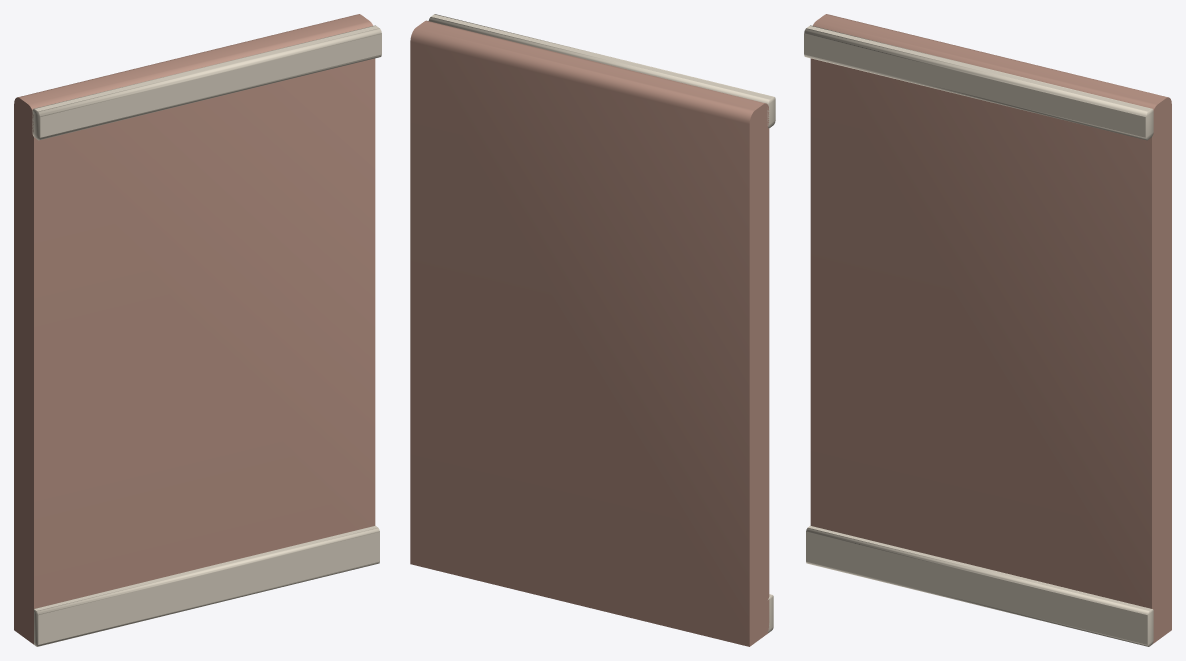
The model's file is Wall.glb.
The picture shows the model from 3 angles, left to right: view 1: azimuth 30°, elevation 25°; view 2: azimuth 150°, elevation 25°; view 3: azimuth 330°, elevation 25°; orthographic projection.
Visible parts, largest first — view 1: PBK_substrate.001, PBK_base_trim.001, PBK_floor_band.001; view 2: PBK_substrate.001, PBK_floor_band.001; view 3: PBK_substrate.001, PBK_base_trim.001, PBK_floor_band.001.
Part boxes in pixels (x1=…): PBK_substrate.001: x1=14, y1=14, x2=375, y2=644; PBK_base_trim.001: x1=34, y1=525, x2=379, y2=646; PBK_floor_band.001: x1=32, y1=25, x2=381, y2=140; PBK_substrate.001: x1=410, y1=20, x2=769, y2=646; PBK_floor_band.001: x1=428, y1=14, x2=775, y2=128; PBK_substrate.001: x1=810, y1=14, x2=1171, y2=643; PBK_base_trim.001: x1=806, y1=525, x2=1153, y2=646; PBK_floor_band.001: x1=804, y1=25, x2=1153, y2=140.
Bounding box in the file's own units: 2 × 3 × 0.265.
